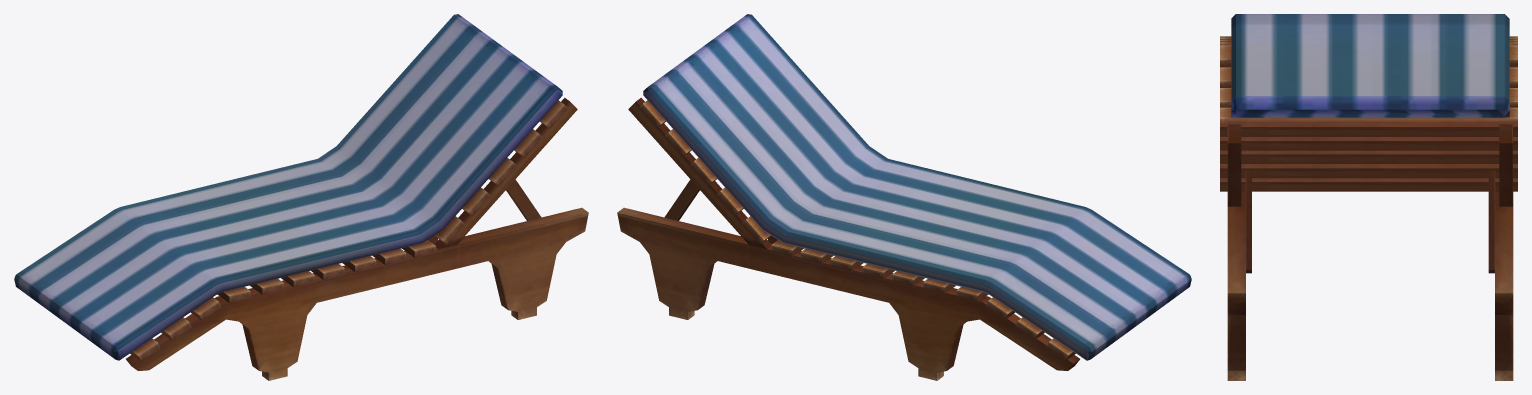
File: furni_0201022.FBX
The picture shows the model from 3 angles, left to right: view 1: azimuth 30°, elevation 25°; view 2: azimuth 150°, elevation 25°; view 3: azimuth 270°, elevation 25°; orthographic projection. The views are drawn at different scales.
Visible parts, largest first — view 1: furni_0201022; view 2: furni_0201022; view 3: furni_0201022.
Part boxes in pixels (<box>): furni_0201022: <box>14,14,588,380</box>; furni_0201022: <box>617,14,1191,380</box>; furni_0201022: <box>1220,14,1517,380</box>.
Bounding box in the file's own units: 200 × 89.54 × 81.16.
1 material, 1 textured.
